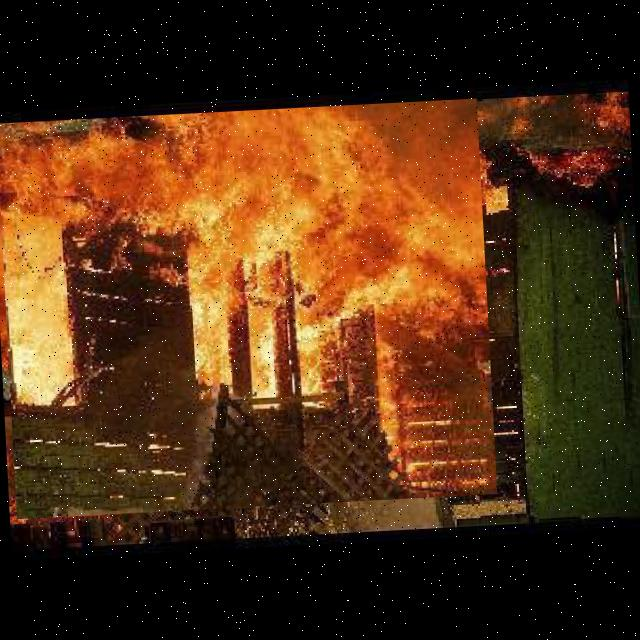fire: (0, 98, 497, 519)
